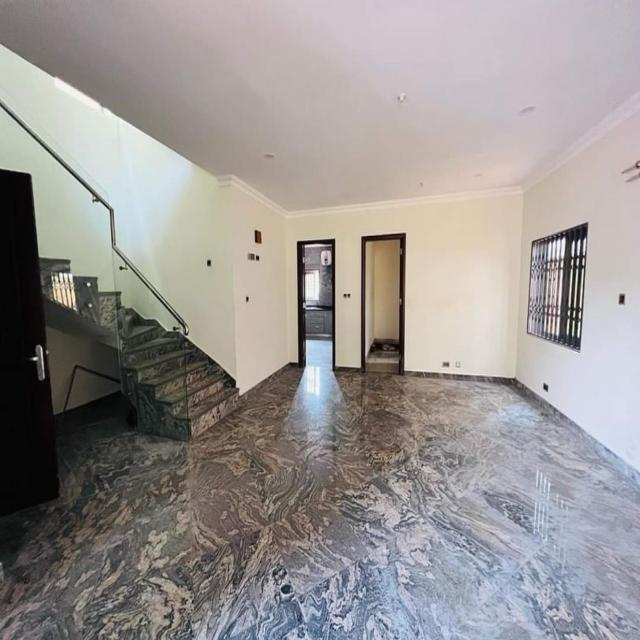OpenDoor: (356, 231, 415, 379), (290, 235, 340, 373)
